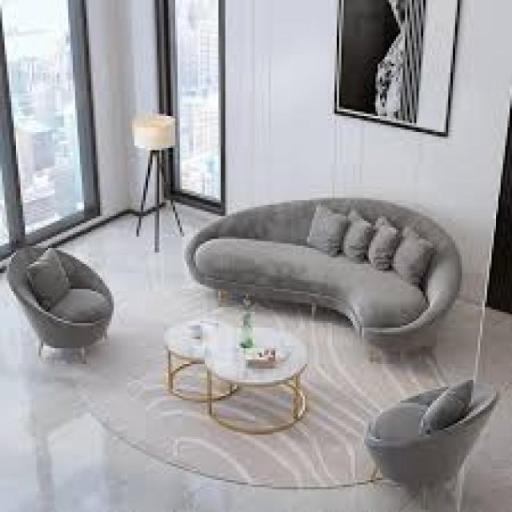sofa: (182, 167, 504, 370), (0, 239, 156, 395), (326, 384, 512, 495)
